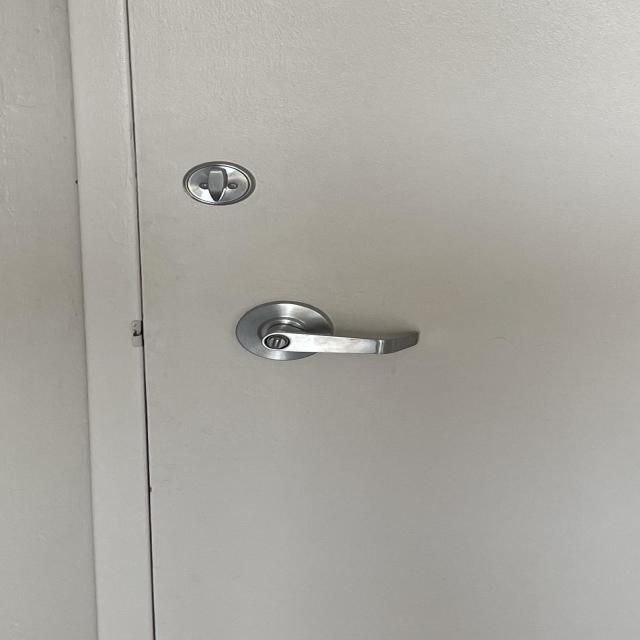door_handle: (202, 312, 439, 375)
